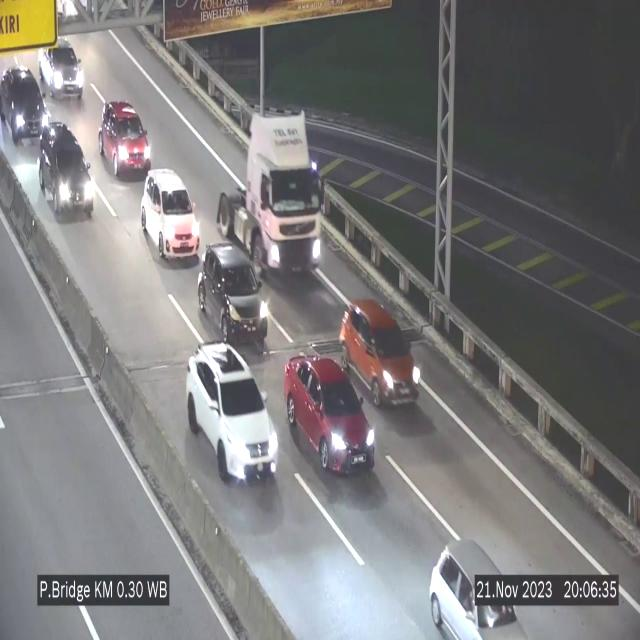Car: (413, 532, 543, 640), (186, 344, 278, 482), (334, 291, 424, 418), (285, 354, 375, 474), (194, 239, 277, 358), (32, 120, 100, 228), (141, 169, 200, 259), (0, 71, 56, 148), (99, 99, 151, 177), (39, 36, 93, 101)
Truck: (219, 103, 321, 284)
